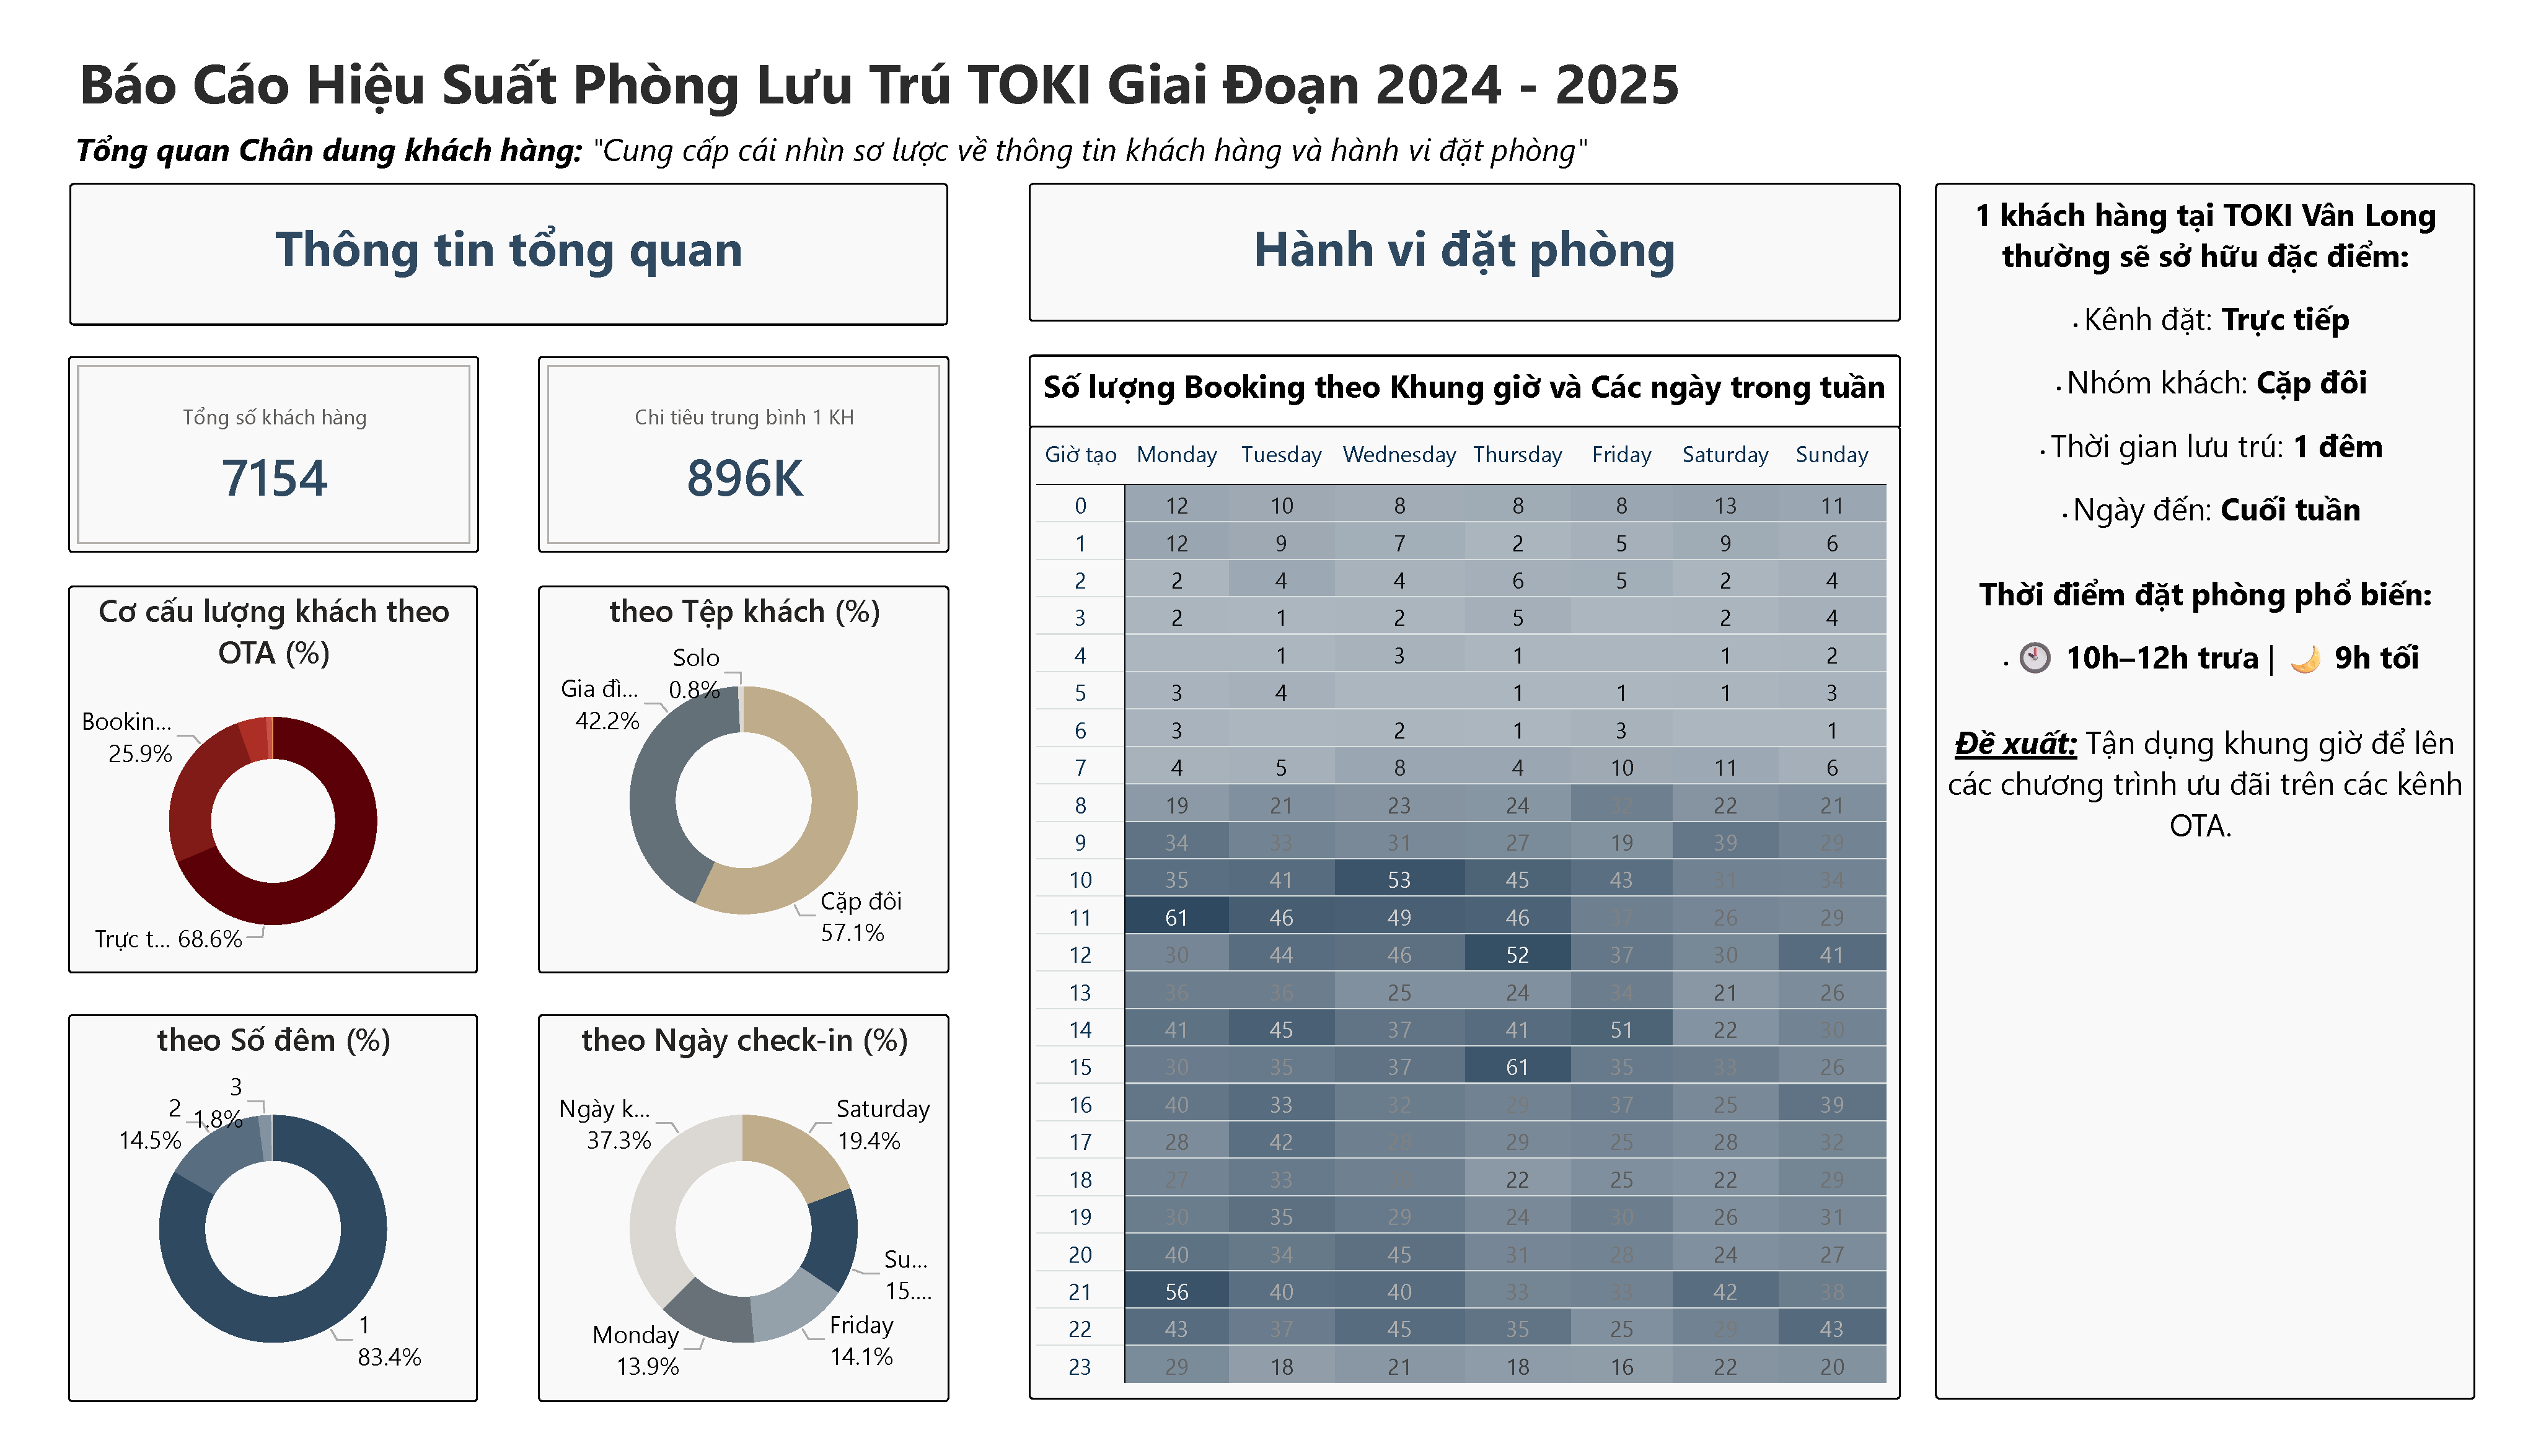

The page's visual inventory and layout, read from the dashboard file:
{"tool":"powerbi","page":{"name":"Customer Overview","canvas":[1920,1080],"ordinal":2},"visuals":[{"type":"textbox","box":[32.1,5,1390,85],"z":0},{"type":"textbox","box":[773.3,250.7,675,56.9],"z":1000},{"type":"cardVisual","fields":{"Data":["TOKI - Merged - Backup.Người lớn"]},"box":[28.7,252,318,152],"z":2000},{"type":"textbox","box":[30,117.5,680,110],"z":3000},{"type":"donutChart","title":"Cơ cấu lượng khách theo OTA (%)","fields":{"Category":["TOKI - Merged - Backup.Kênh OTA"],"Y":["TOKI - Merged - Backup.Người lớn"]},"box":[28.7,430,317.5,300.4],"z":4000},{"type":"cardVisual","fields":{"Data":["_Measures.Average Customer Spent"]},"box":[392.7,252,318,152],"z":5000},{"type":"textbox","box":[28.8,70,1637.5,47.5],"z":6000},{"type":"donutChart","title":"theo Tệp khách (%)","fields":{"Category":["TOKI - Merged - Backup.Tệp khách"],"Y":["TOKI - Merged - Backup.Người lớn"]},"box":[393.2,430,317.5,300.4],"z":7000},{"type":"textbox","box":[1475,117.5,417.5,942.5],"z":8000},{"type":"textbox","box":[772.5,117.5,675,107.5],"z":9000},{"type":"donutChart","title":"theo Số đêm (%)","fields":{"Y":["TOKI - Merged - Backup.Người lớn"],"Category":["TOKI - Merged - Backup.Số đêm"]},"box":[28.7,761.6,317.5,300.4],"z":10000},{"type":"donutChart","title":"theo Ngày check-in (%)","fields":{"Y":["TOKI - Merged - Backup.Người lớn"],"Category":["TOKI - Merged - Backup.Tên ngày đến"]},"box":[393.2,761.6,317.5,300.4],"z":11000},{"type":"tableEx","fields":{"Values":["Booking hours.Giờ tạo","Booking hours.Monday","Booking hours.Tuesday","Booking hours.Wednesday","Booking hours.Thursday","Booking hours.Friday","Booking hours.Saturday","Booking hours.Sunday"]},"box":[774,306,676,758],"z":12000}]}

Visuals, with their boxes on the page's 1920x1080 design canvas (x1, y1, x2, y2). These are canvas units, not pixel positions in the 2541x1456 screenshot, which may show the page scaled, cropped or inside an application window:
textbox: {"left": 32, "top": 5, "right": 1422, "bottom": 90}
textbox: {"left": 773, "top": 251, "right": 1448, "bottom": 308}
cardVisual - TOKI - Merged - Backup.Người lớn: {"left": 29, "top": 252, "right": 347, "bottom": 404}
textbox: {"left": 30, "top": 118, "right": 710, "bottom": 228}
"Cơ cấu lượng khách theo OTA (%)" donutChart: {"left": 29, "top": 430, "right": 346, "bottom": 730}
cardVisual - _Measures.Average Customer Spent: {"left": 393, "top": 252, "right": 711, "bottom": 404}
textbox: {"left": 29, "top": 70, "right": 1666, "bottom": 118}
"theo Tệp khách (%)" donutChart: {"left": 393, "top": 430, "right": 711, "bottom": 730}
textbox: {"left": 1475, "top": 118, "right": 1892, "bottom": 1060}
textbox: {"left": 772, "top": 118, "right": 1448, "bottom": 225}
"theo Số đêm (%)" donutChart: {"left": 29, "top": 762, "right": 346, "bottom": 1062}
"theo Ngày check-in (%)" donutChart: {"left": 393, "top": 762, "right": 711, "bottom": 1062}
tableEx - Booking hours.Giờ tạo x Booking hours.Monday: {"left": 774, "top": 306, "right": 1450, "bottom": 1064}
